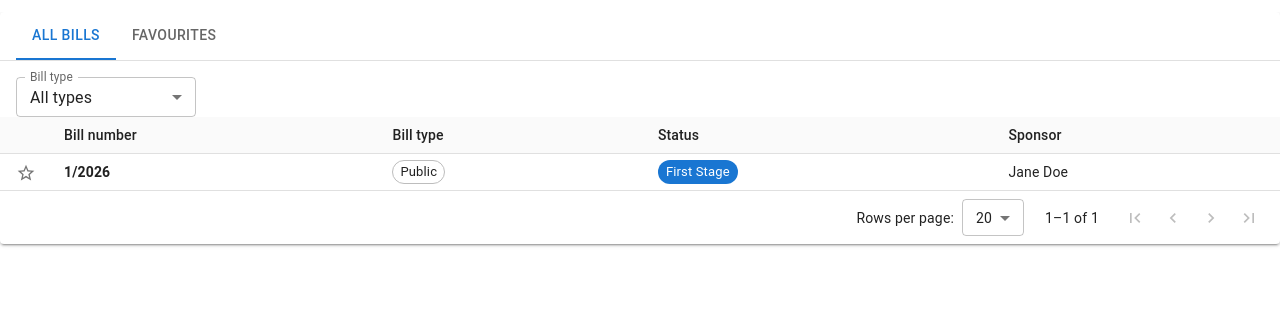
BillsTable › tabs and favourites › shows the favourites empty-state message when there are none
This screenshot has width=1280, height=312.
What coordinates should you click on to do the following:
click the tab "Favourites"
I would click on:
 (174, 36)
Its box is [116,12,232,60].
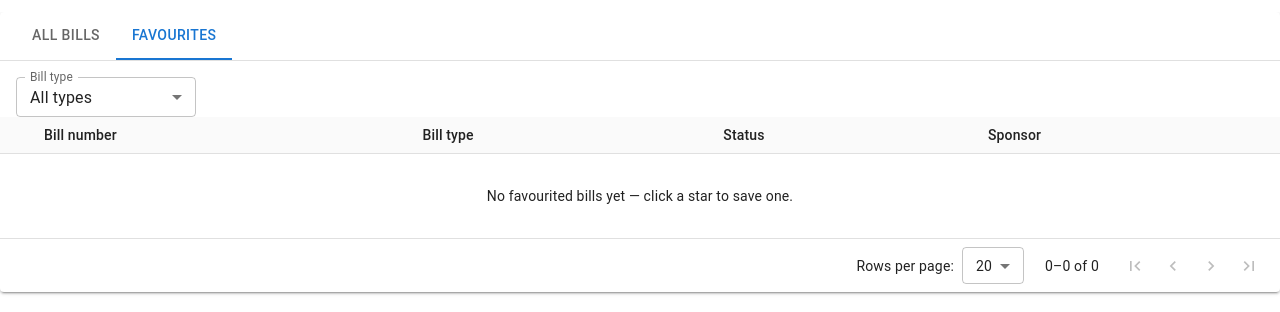
Now the text "No favourited bills yet — click a star to save one." is shown, box [487,188,793,204]
